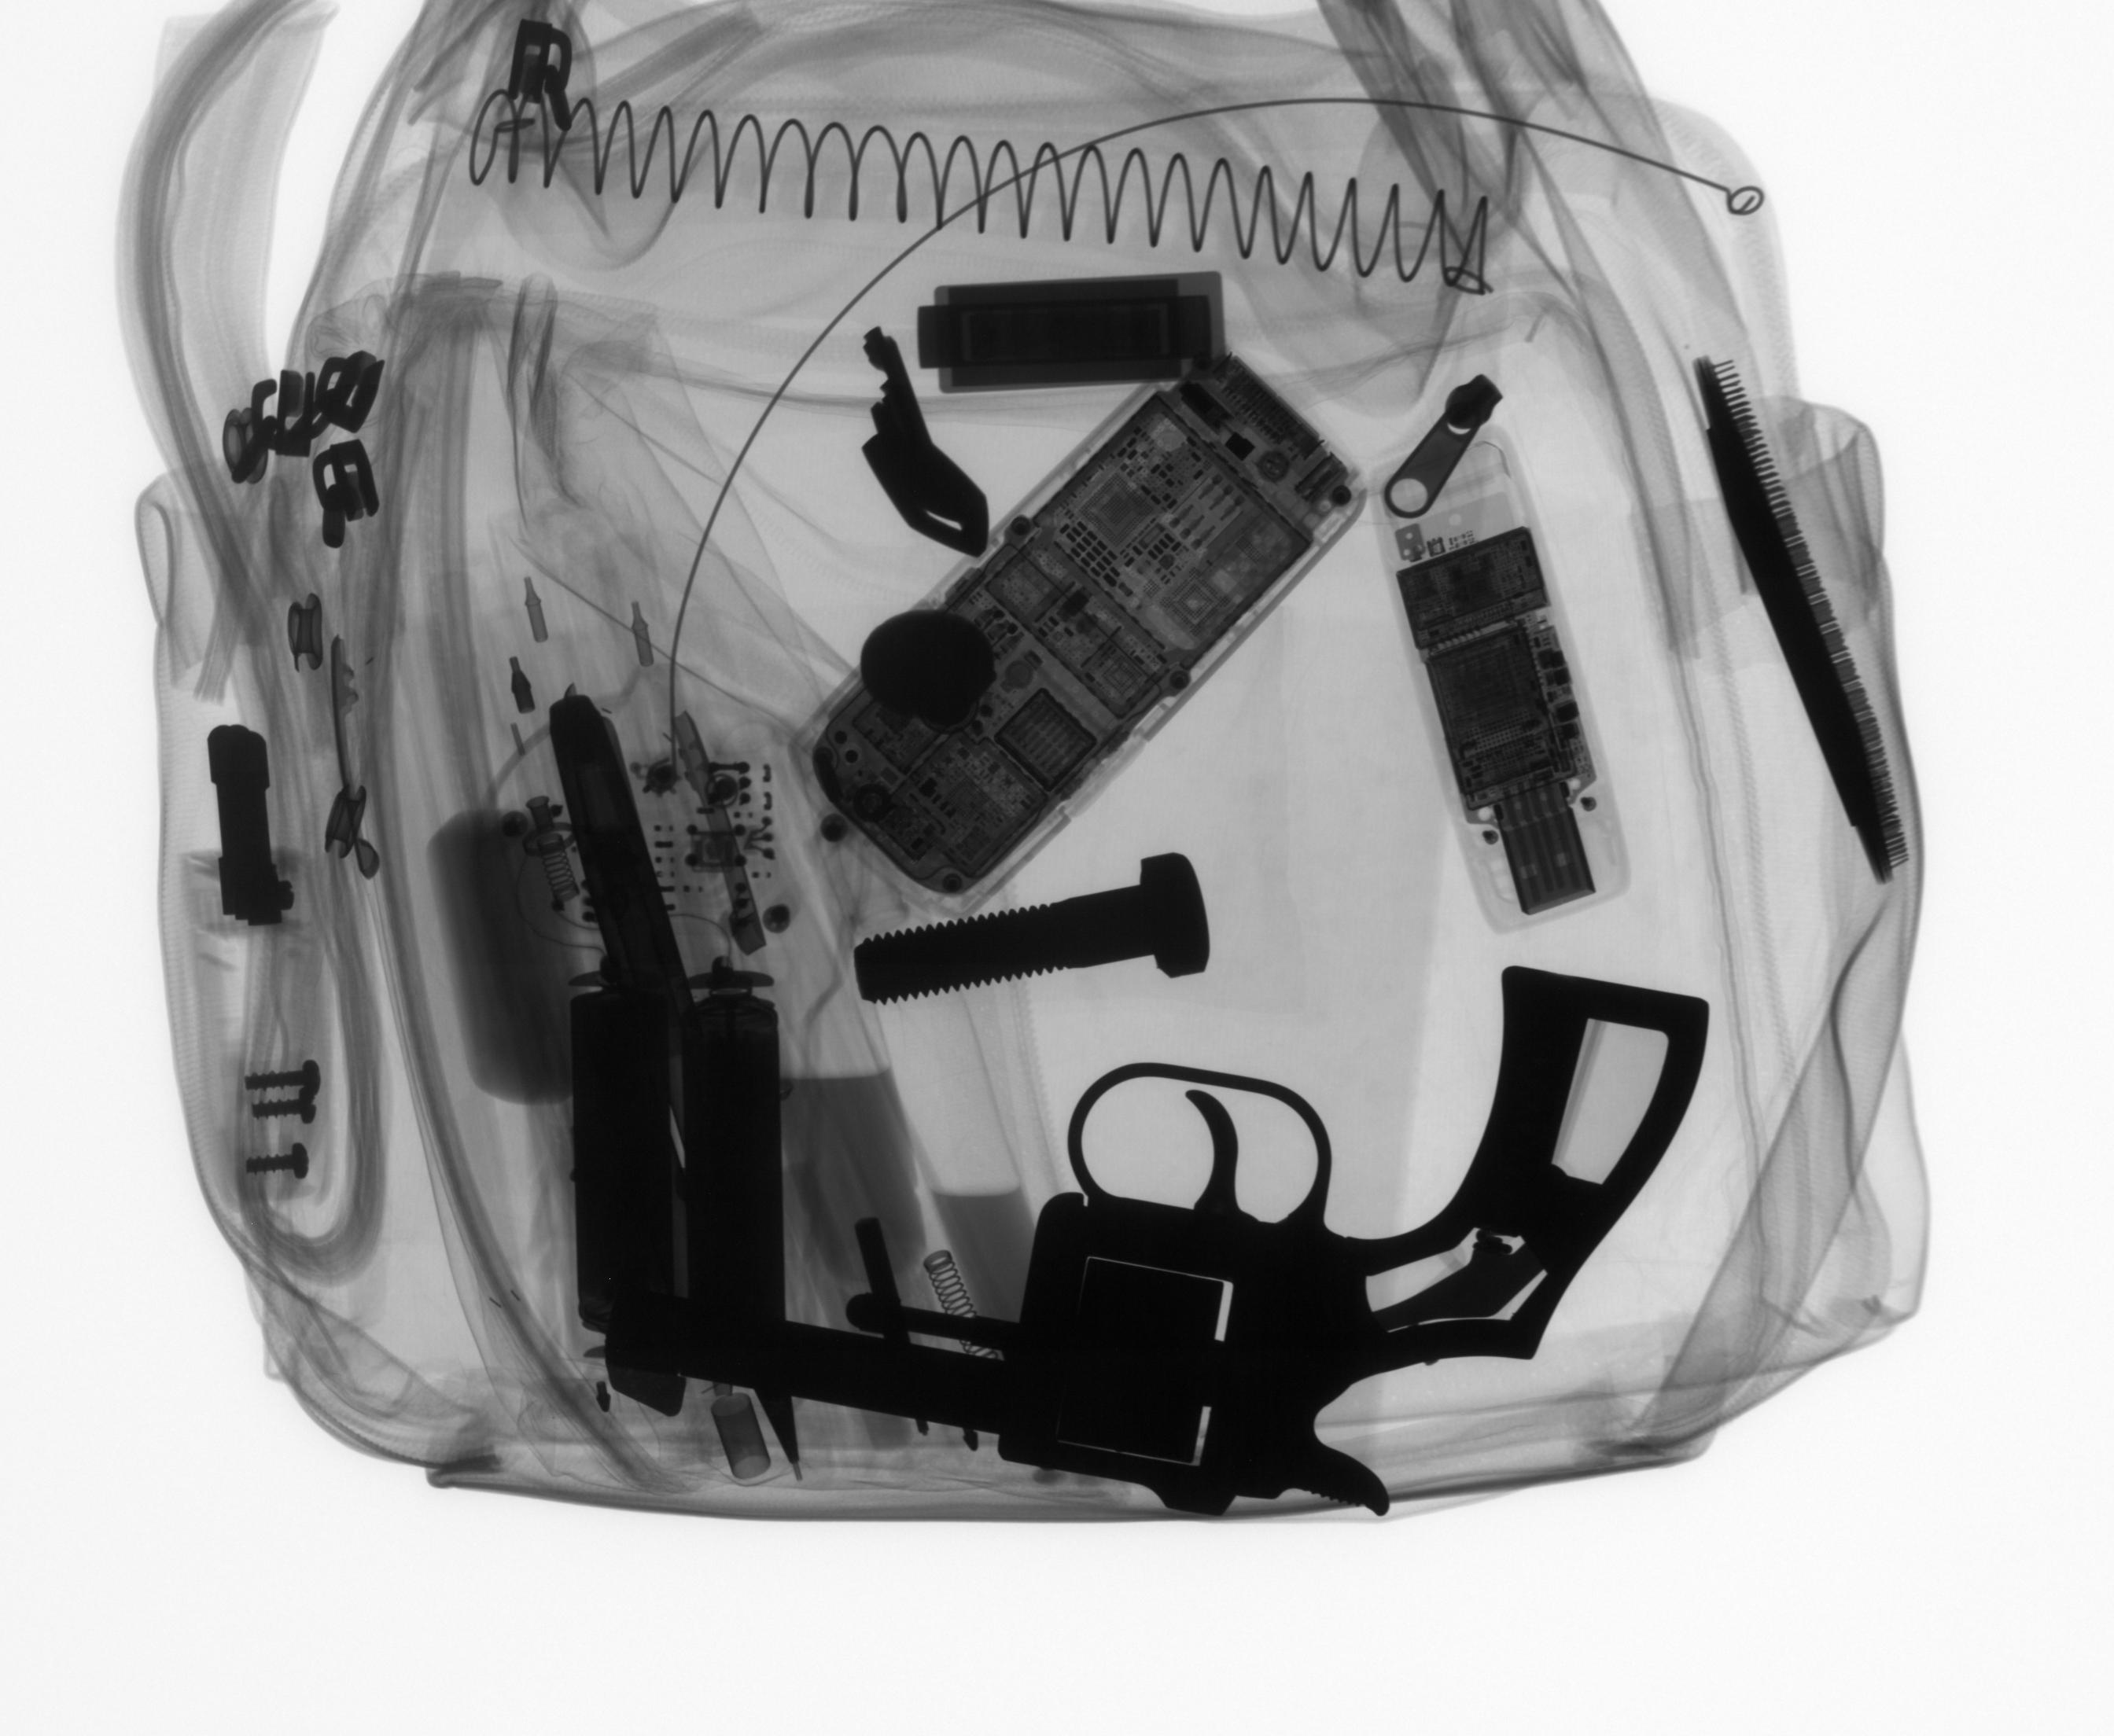Handgun: (595, 958, 1718, 1536)
